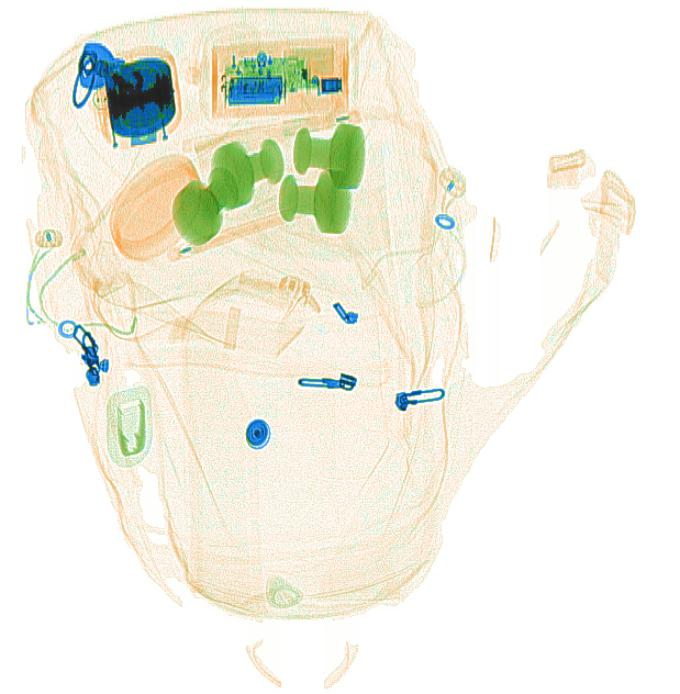battery: (223, 74, 282, 106)
seal: (171, 165, 243, 244), (207, 139, 284, 210), (289, 121, 363, 190), (275, 172, 353, 234)
